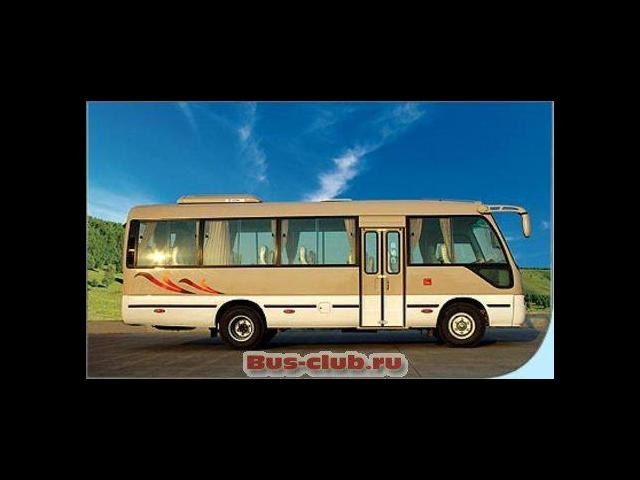bus: (116, 187, 552, 346)
